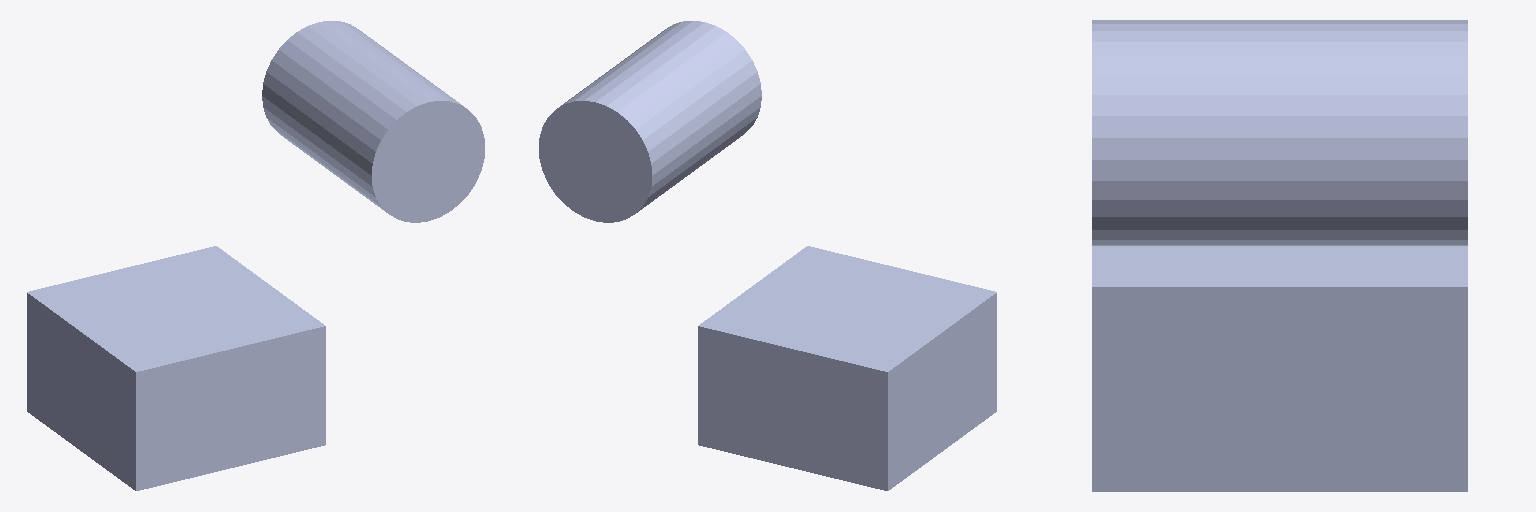
URDF robot description (new_peg):
<?xml version="1.0" encoding="utf-8"?>
<!-- This URDF was automatically created by SolidWorks to URDF Exporter! Originally created by [author] ([email redacted]) 
     Commit Version: 1.5.1-0-g916b5db  Build Version: 1.5.7152.31018
     For more information, please see http://wiki.ros.org/sw_urdf_exporter -->
<robot
  name="new_peg">
  <link
    name="peg1">
    <inertial>
      <origin
        xyz="0 0 0"
        rpy="0 0 0" />
      <mass
        value="0.13013" />
      <inertia
        ixx="0.00012561"
        ixy="-4.8374E-21"
        ixz="-3.5293E-21"
        iyy="4.4132E-05"
        iyz="4.35281382483698E-21"
        izz="0.00012561" />
    </inertial>
    <visual>
      <origin
        xyz="0 0 0"
        rpy="1.5707963267949 0 0" />
      <geometry>
        <cylinder radius="0.015" length="0.05"/>
      </geometry>
      <material
        name="">
        <color
          rgba="0.79216 0.81961 0.93333 1" />
        <texture
          filename="package://peg/textures/" />
      </material>
    </visual>
    <collision>
      <origin
        xyz="0 0 0"
        rpy="1.5707963267949 0 0" />
      <geometry>
        <cylinder radius="0.015" length="0.05"/>
      </geometry>
    </collision>
  </link>

  <joint name="joint1" type="fixed">
    <origin xyz="0.0  0.0 -0.05" rpy="0 0 0"/>
    <parent link="peg1"/>
    <child link="peg2"/>
  </joint>

 <link
    name="peg2">
    <inertial>
      <origin
        xyz="0.0 0.0 -0.075"
        rpy="0 0 0" />
      <mass
        value="5.0" />
      <inertia
        ixx="0.003"
        ixy="0.0"
        ixz="0.0"
        iyy="0.003"
        iyz="0.0"
        izz="0.003" />
    </inertial>
    <visual>
      <origin
        xyz="-0.052 0.0 0"
        rpy="0 0 0" />
      <geometry>
        <box 
	  size="0.05 0.05 0.03" />
      </geometry>
      <material
        name="stainless">
        <color
          rgba="0.79216 0.81961 0.93333 1" />
      </material>
    </visual>
    <collision>
      <origin
        xyz="-0.052 0.0 0"
        rpy="0 0 0" />
      <geometry>
        <box 
	  size="0.052 0.052 0.052" />
      </geometry>
    </collision>
  <gazebo>
    <static>true</static>
  </gazebo>
  </link>

</robot>

--- What the picture shows (computed from the rendered views, not written in the file) ---
Views: 3 orthographic renders of the robot side by side, from view 1: azimuth 30°, elevation 25°; view 2: azimuth 150°, elevation 25°; view 3: azimuth 270°, elevation 25°.
Model new_peg with 2 links and 1 joints (1 fixed), rooted at peg1, posed every joint at zero.
Links seen in each view (by area): view 1: peg2, peg1; view 2: peg2, peg1; view 3: peg2, peg1.
Link boxes in pixels (left/top/right/bottom): peg2: left=27, top=246, right=325, bottom=490; peg1: left=262, top=21, right=484, bottom=222; peg2: left=698, top=246, right=996, bottom=490; peg1: left=539, top=21, right=761, bottom=222; peg2: left=1092, top=246, right=1467, bottom=491; peg1: left=1092, top=20, right=1467, bottom=245.
Size in the robot's own frame: 0.092 by 0.05 by 0.08 metres.
Geometry: primitives only (box / cylinder / sphere), no mesh files.